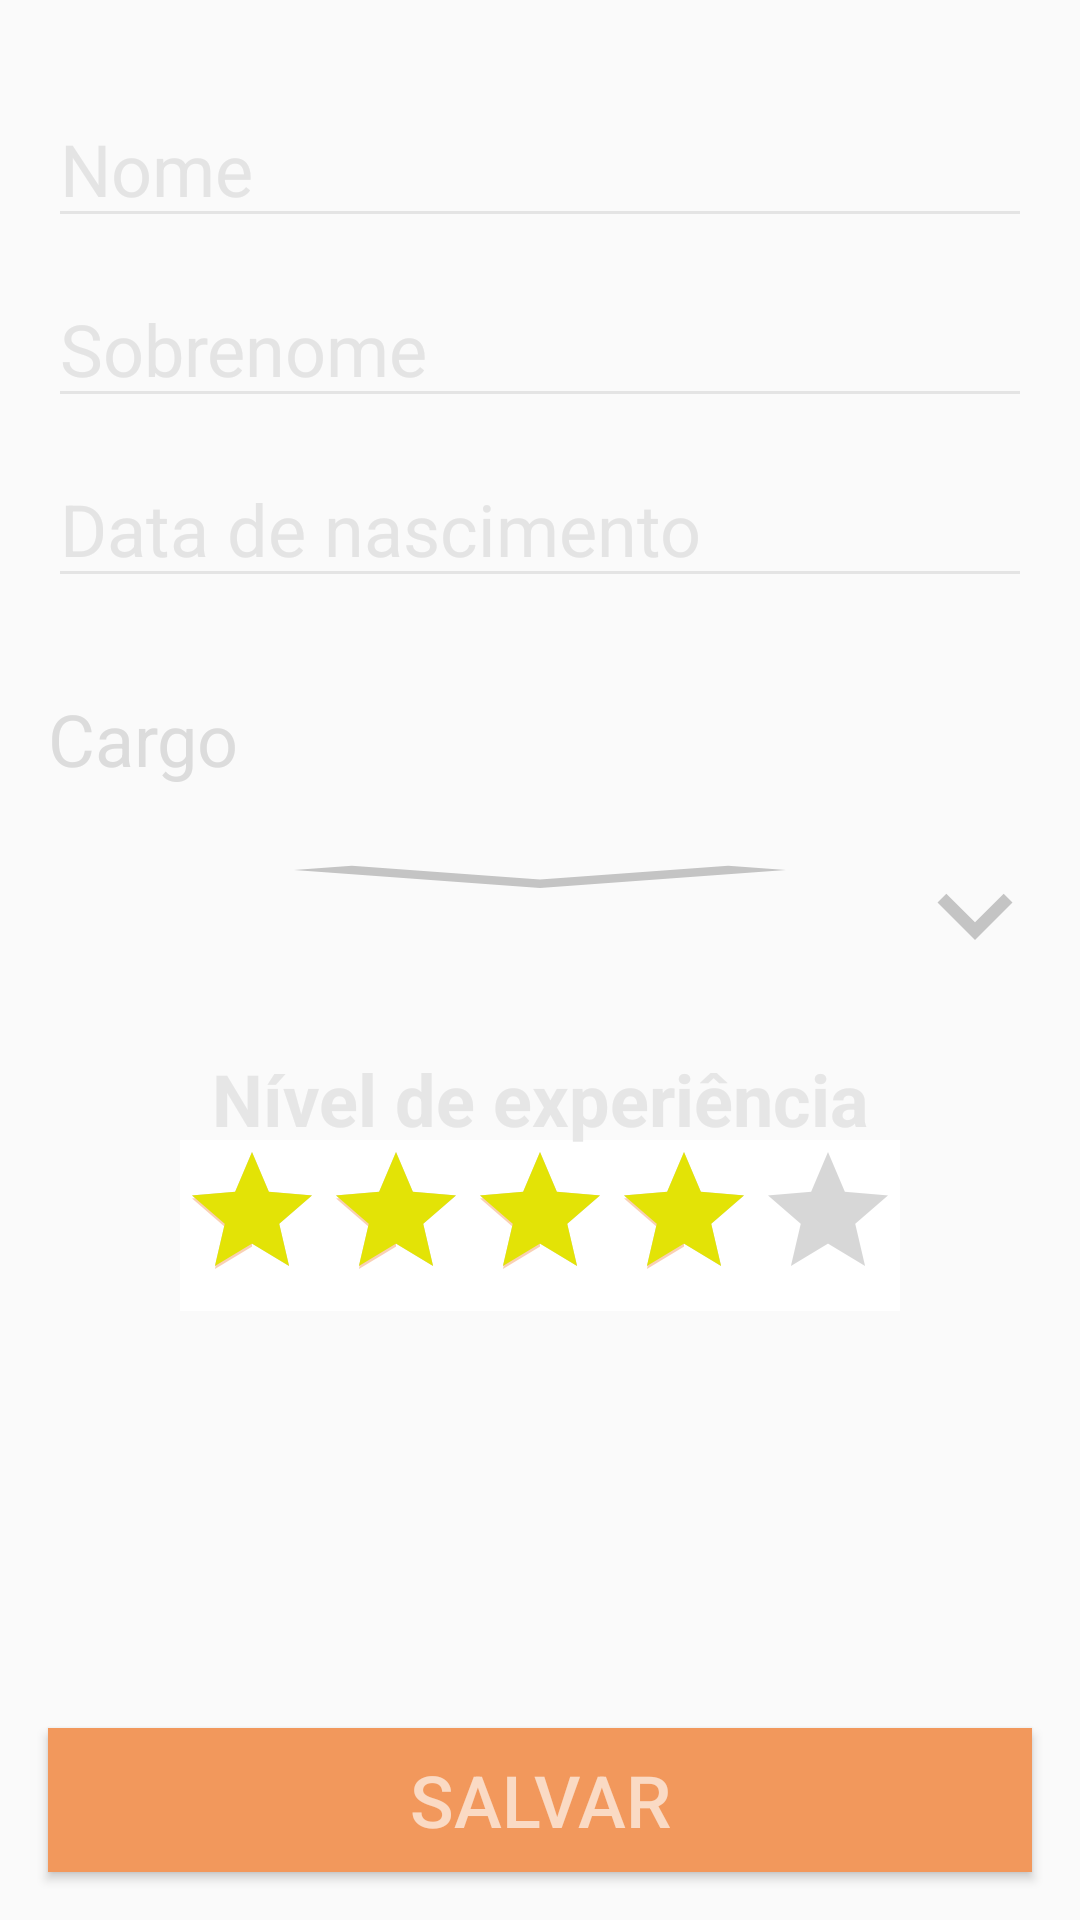

Where icons sit on this 1080×1920 app screen, as (x1, y1, x2, y2):
expandir: (938, 894, 1012, 940)
